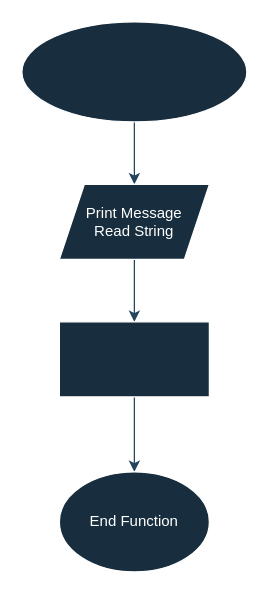
The diagram is 269 pixels wide and 594 high, and some of its shapes have lost their labels. Each missing label, with the centre of its shape:
"ReadString(Message)" goes at pixel 134 71.
"Return String" goes at pixel 133 359.
